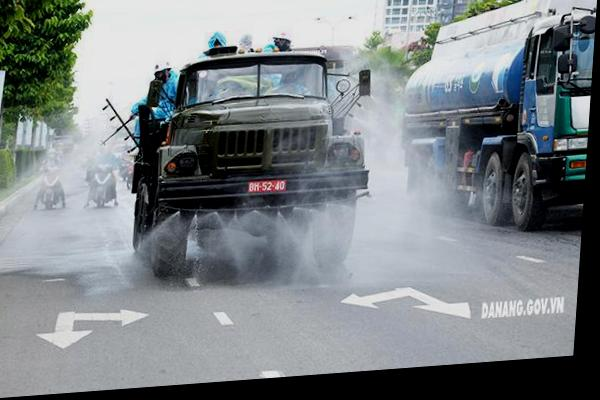License_Plate: (245, 179, 287, 196)
